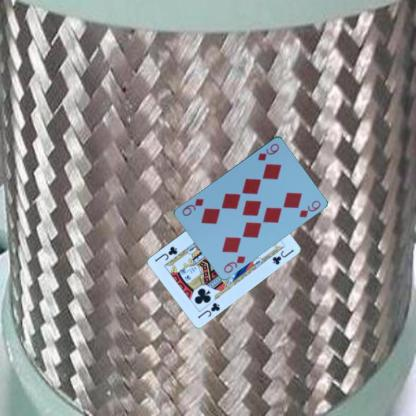9d: (255, 140, 281, 162), (221, 253, 247, 274)
Jc: (196, 300, 222, 320)
